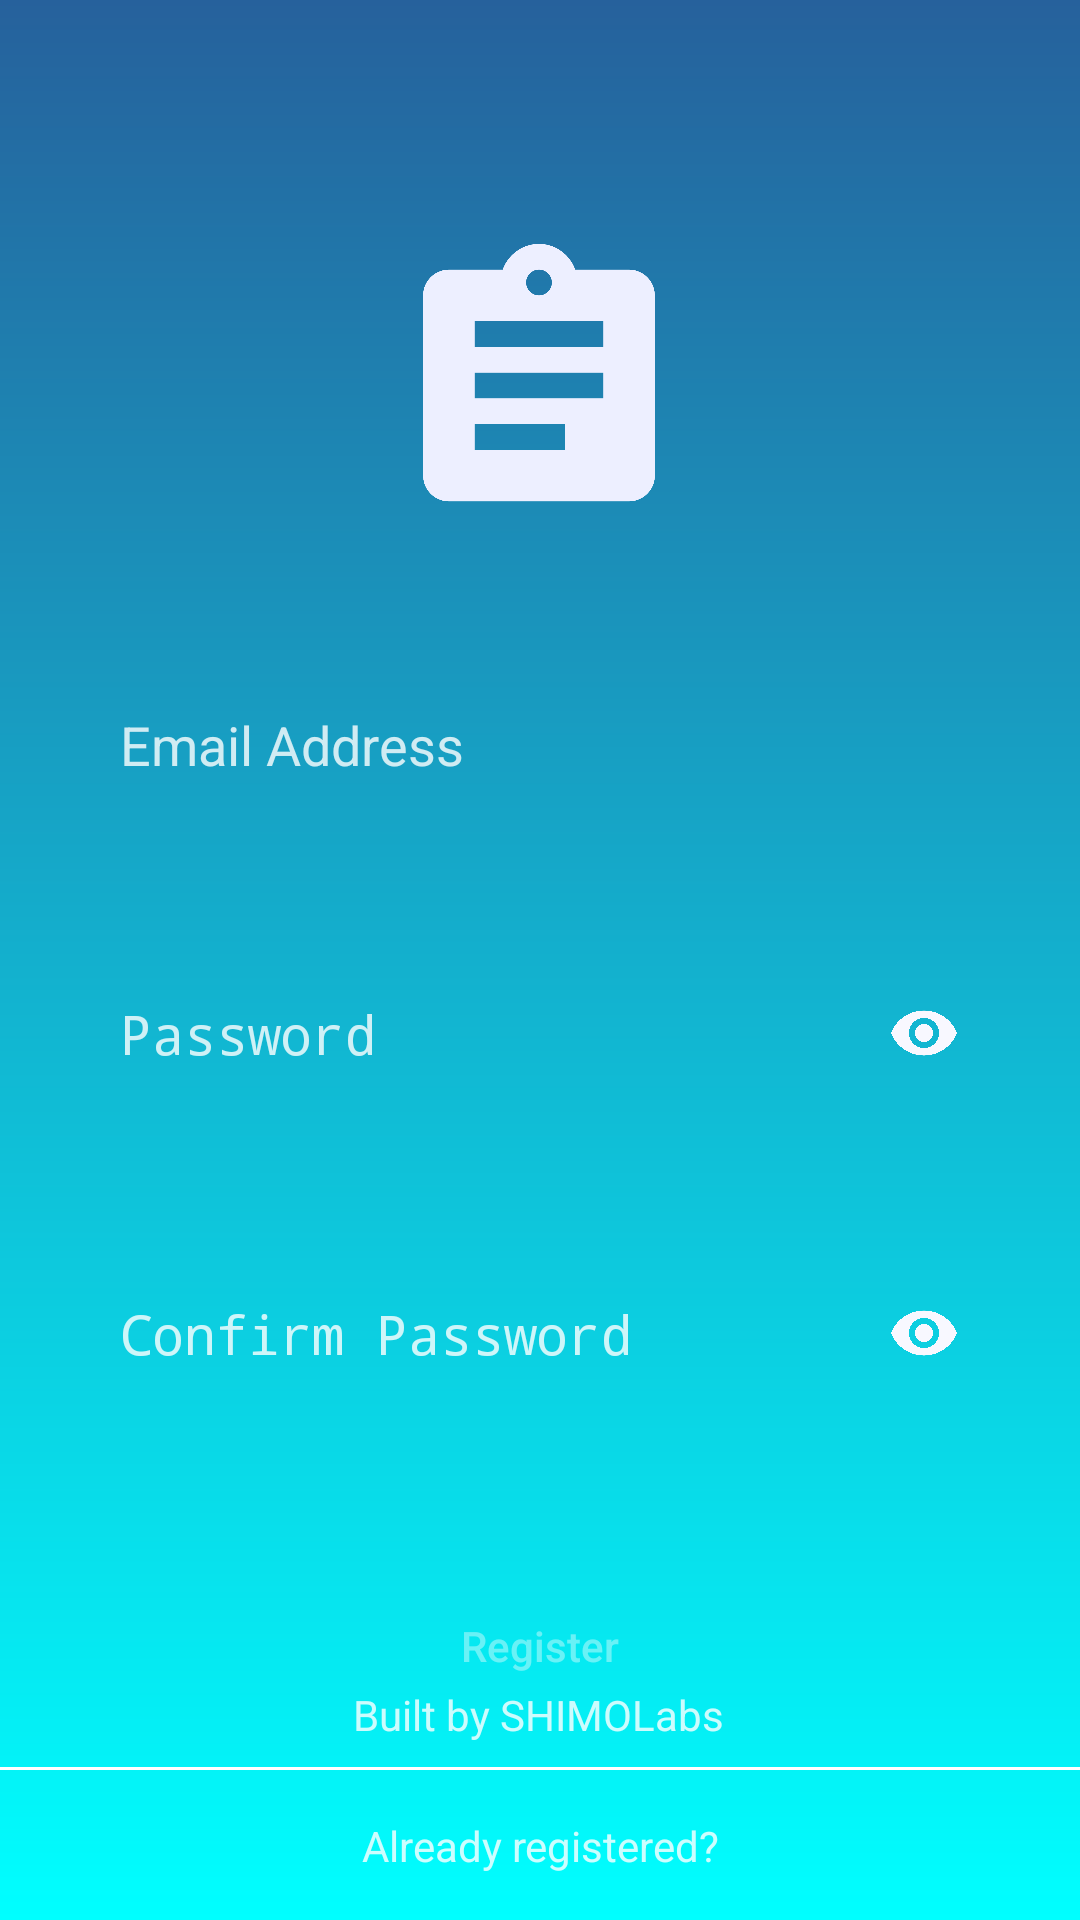

Locate icon controls on the screen. Image size 1080 x 1920, boxes as Rect(x1, y1, x2, y2).
assignment: Rect(423, 244, 655, 502)
